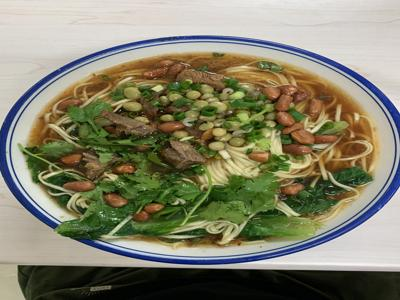nrm: (23, 17, 375, 245)
